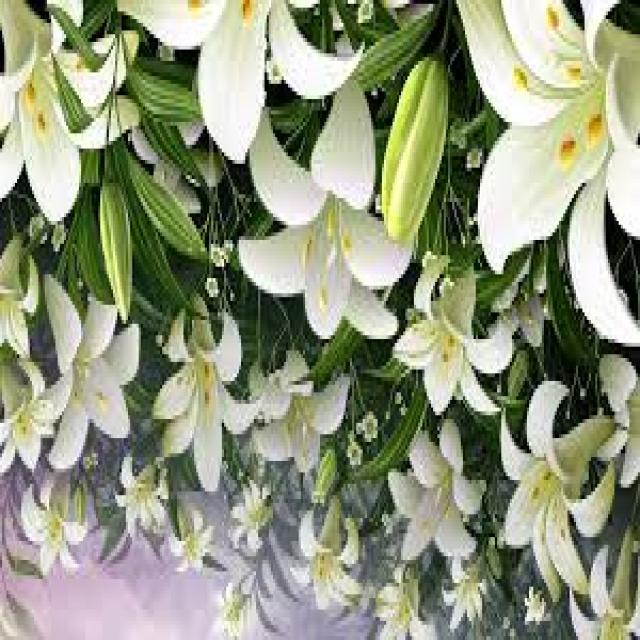lily: (240, 80, 428, 346)
